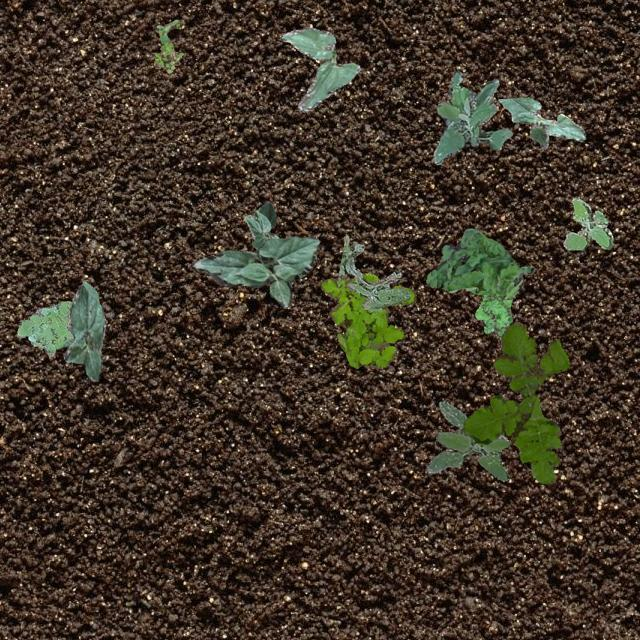crop: (192, 234, 318, 306), (280, 26, 360, 110), (498, 96, 584, 148), (62, 280, 104, 380), (244, 200, 278, 248)
weed: (462, 320, 568, 482), (320, 272, 414, 368), (424, 228, 534, 298), (432, 70, 512, 164), (424, 400, 508, 480), (336, 233, 409, 310), (17, 300, 72, 356), (562, 196, 612, 248), (474, 292, 512, 340), (152, 18, 182, 72)
